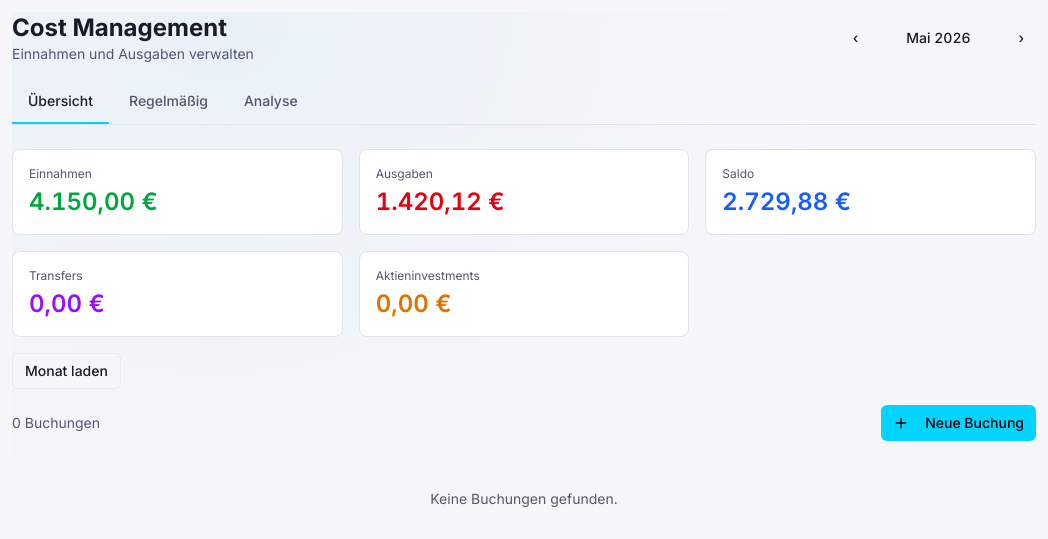
Scenario: CostManagementPage › switches to Analyse tab and shows analytics content
Click the button "Analyse": (271, 106) [228,88,314,124]
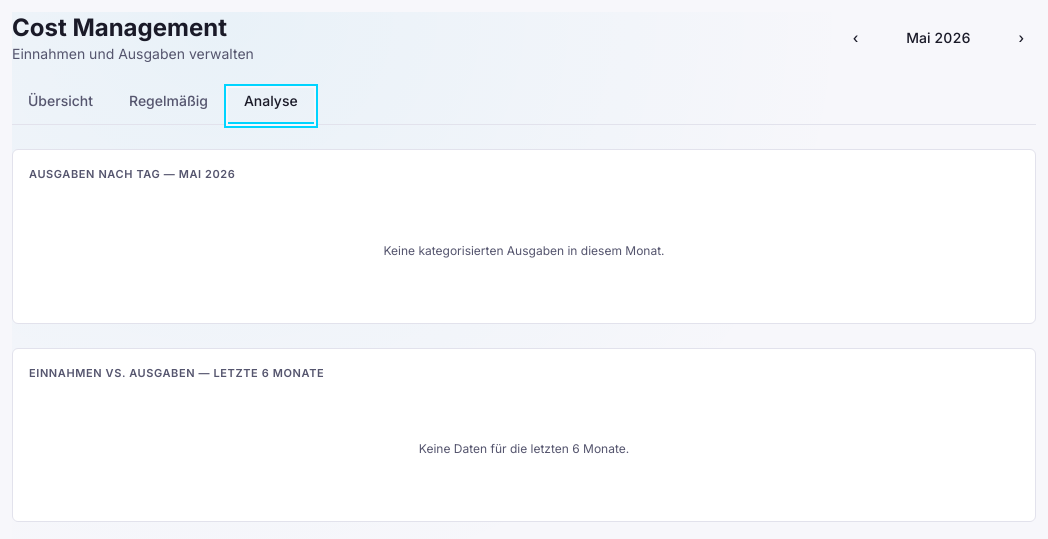
Expected: the text "Ausgaben nach Tag — Mai 2026" is shown, [29,167,235,181]
Expected: the text "Einnahmen vs. Ausgaben — letzte 6 Monate" is shown, [29,366,324,380]
